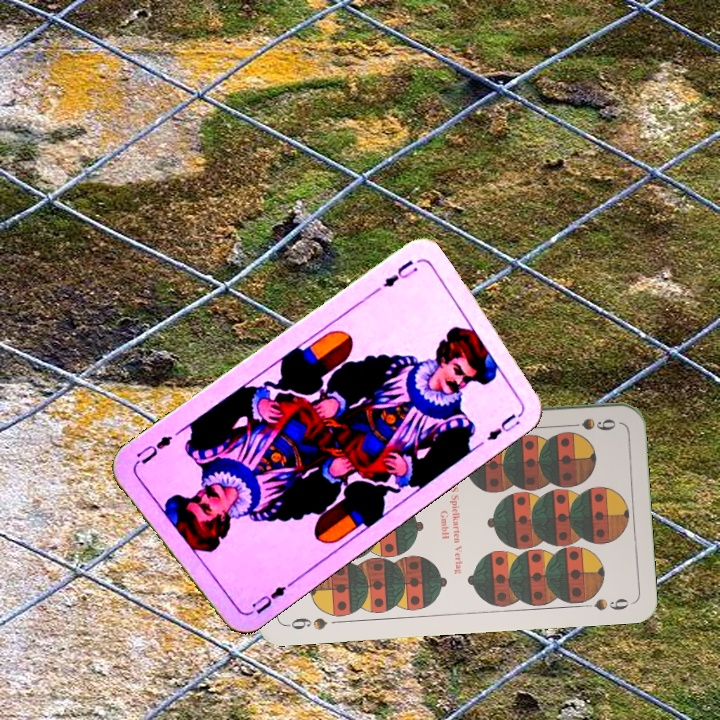EU: (243, 578, 294, 619), (378, 256, 420, 290)
S9: (560, 414, 619, 432), (283, 613, 330, 633)
